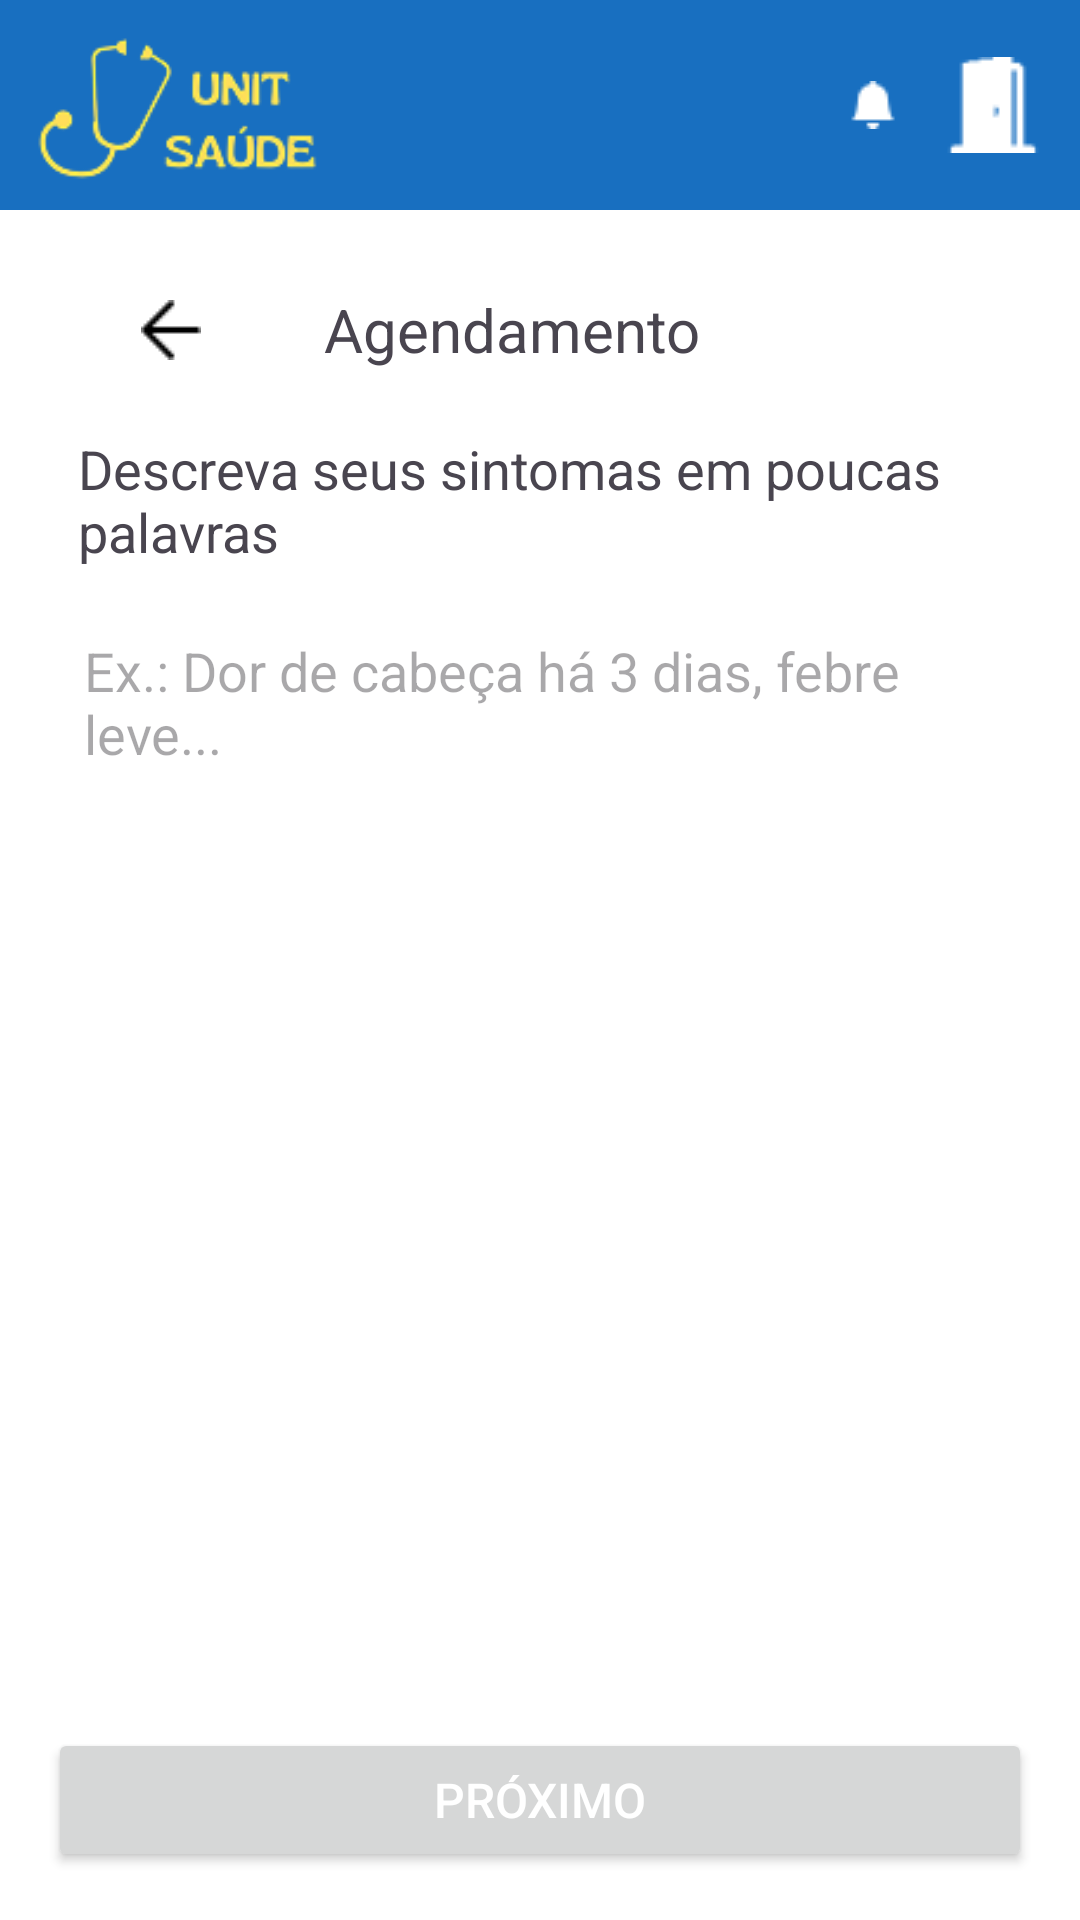

Icon click points for this 1080px x 1920px phone screenshot, format point (x, y):
bell: point (873, 105)
door: point (993, 105)
voltar: point (171, 330)
